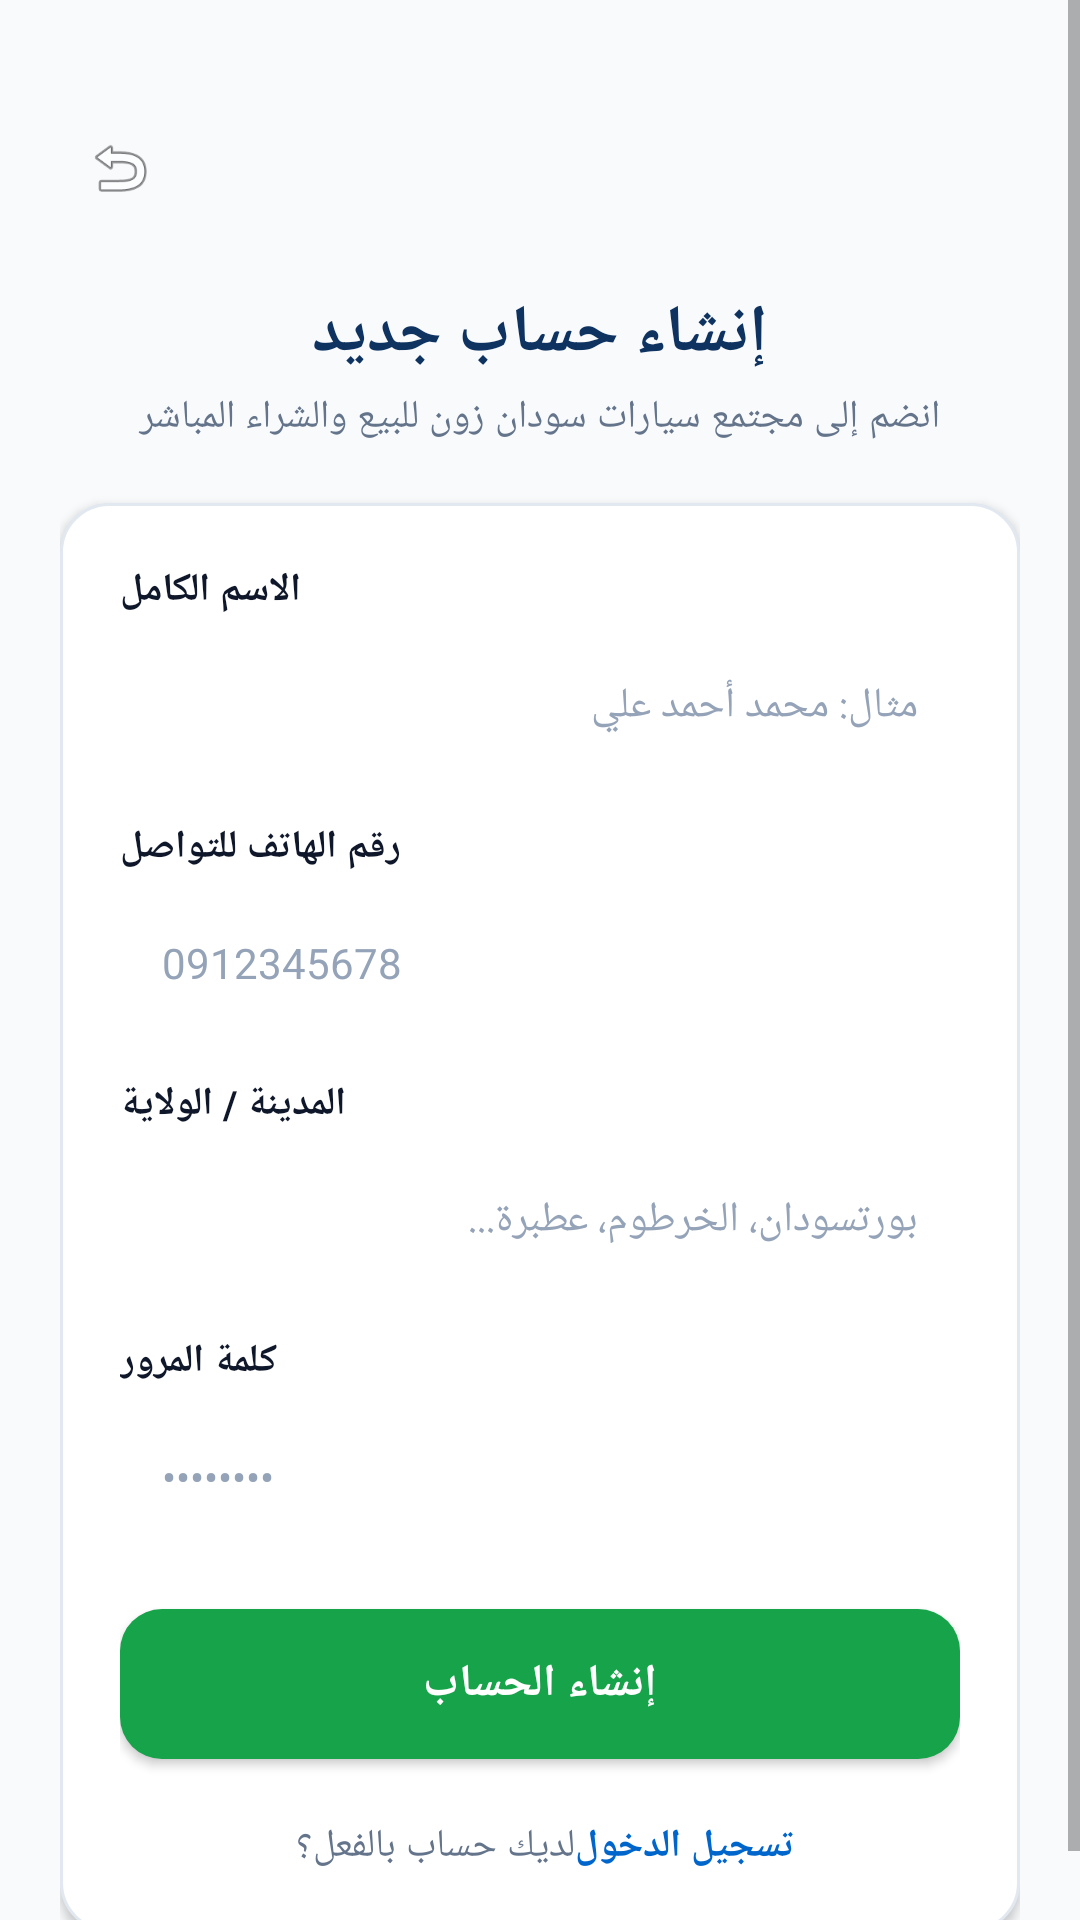

Icon bounding boxes for this 1080 × 1920 phone screenshot, format bbox=[x1, y1, x2, y2]:
رجوع: bbox=[95, 145, 147, 192]
